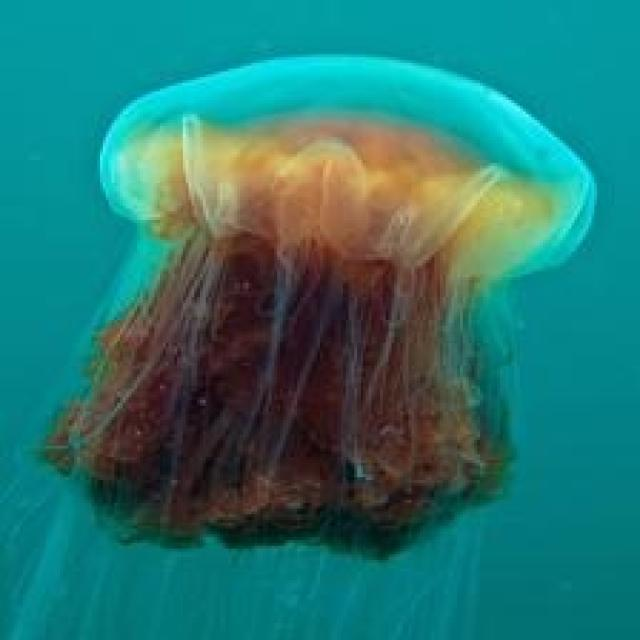Box-jellyfish: (34, 52, 597, 557)
